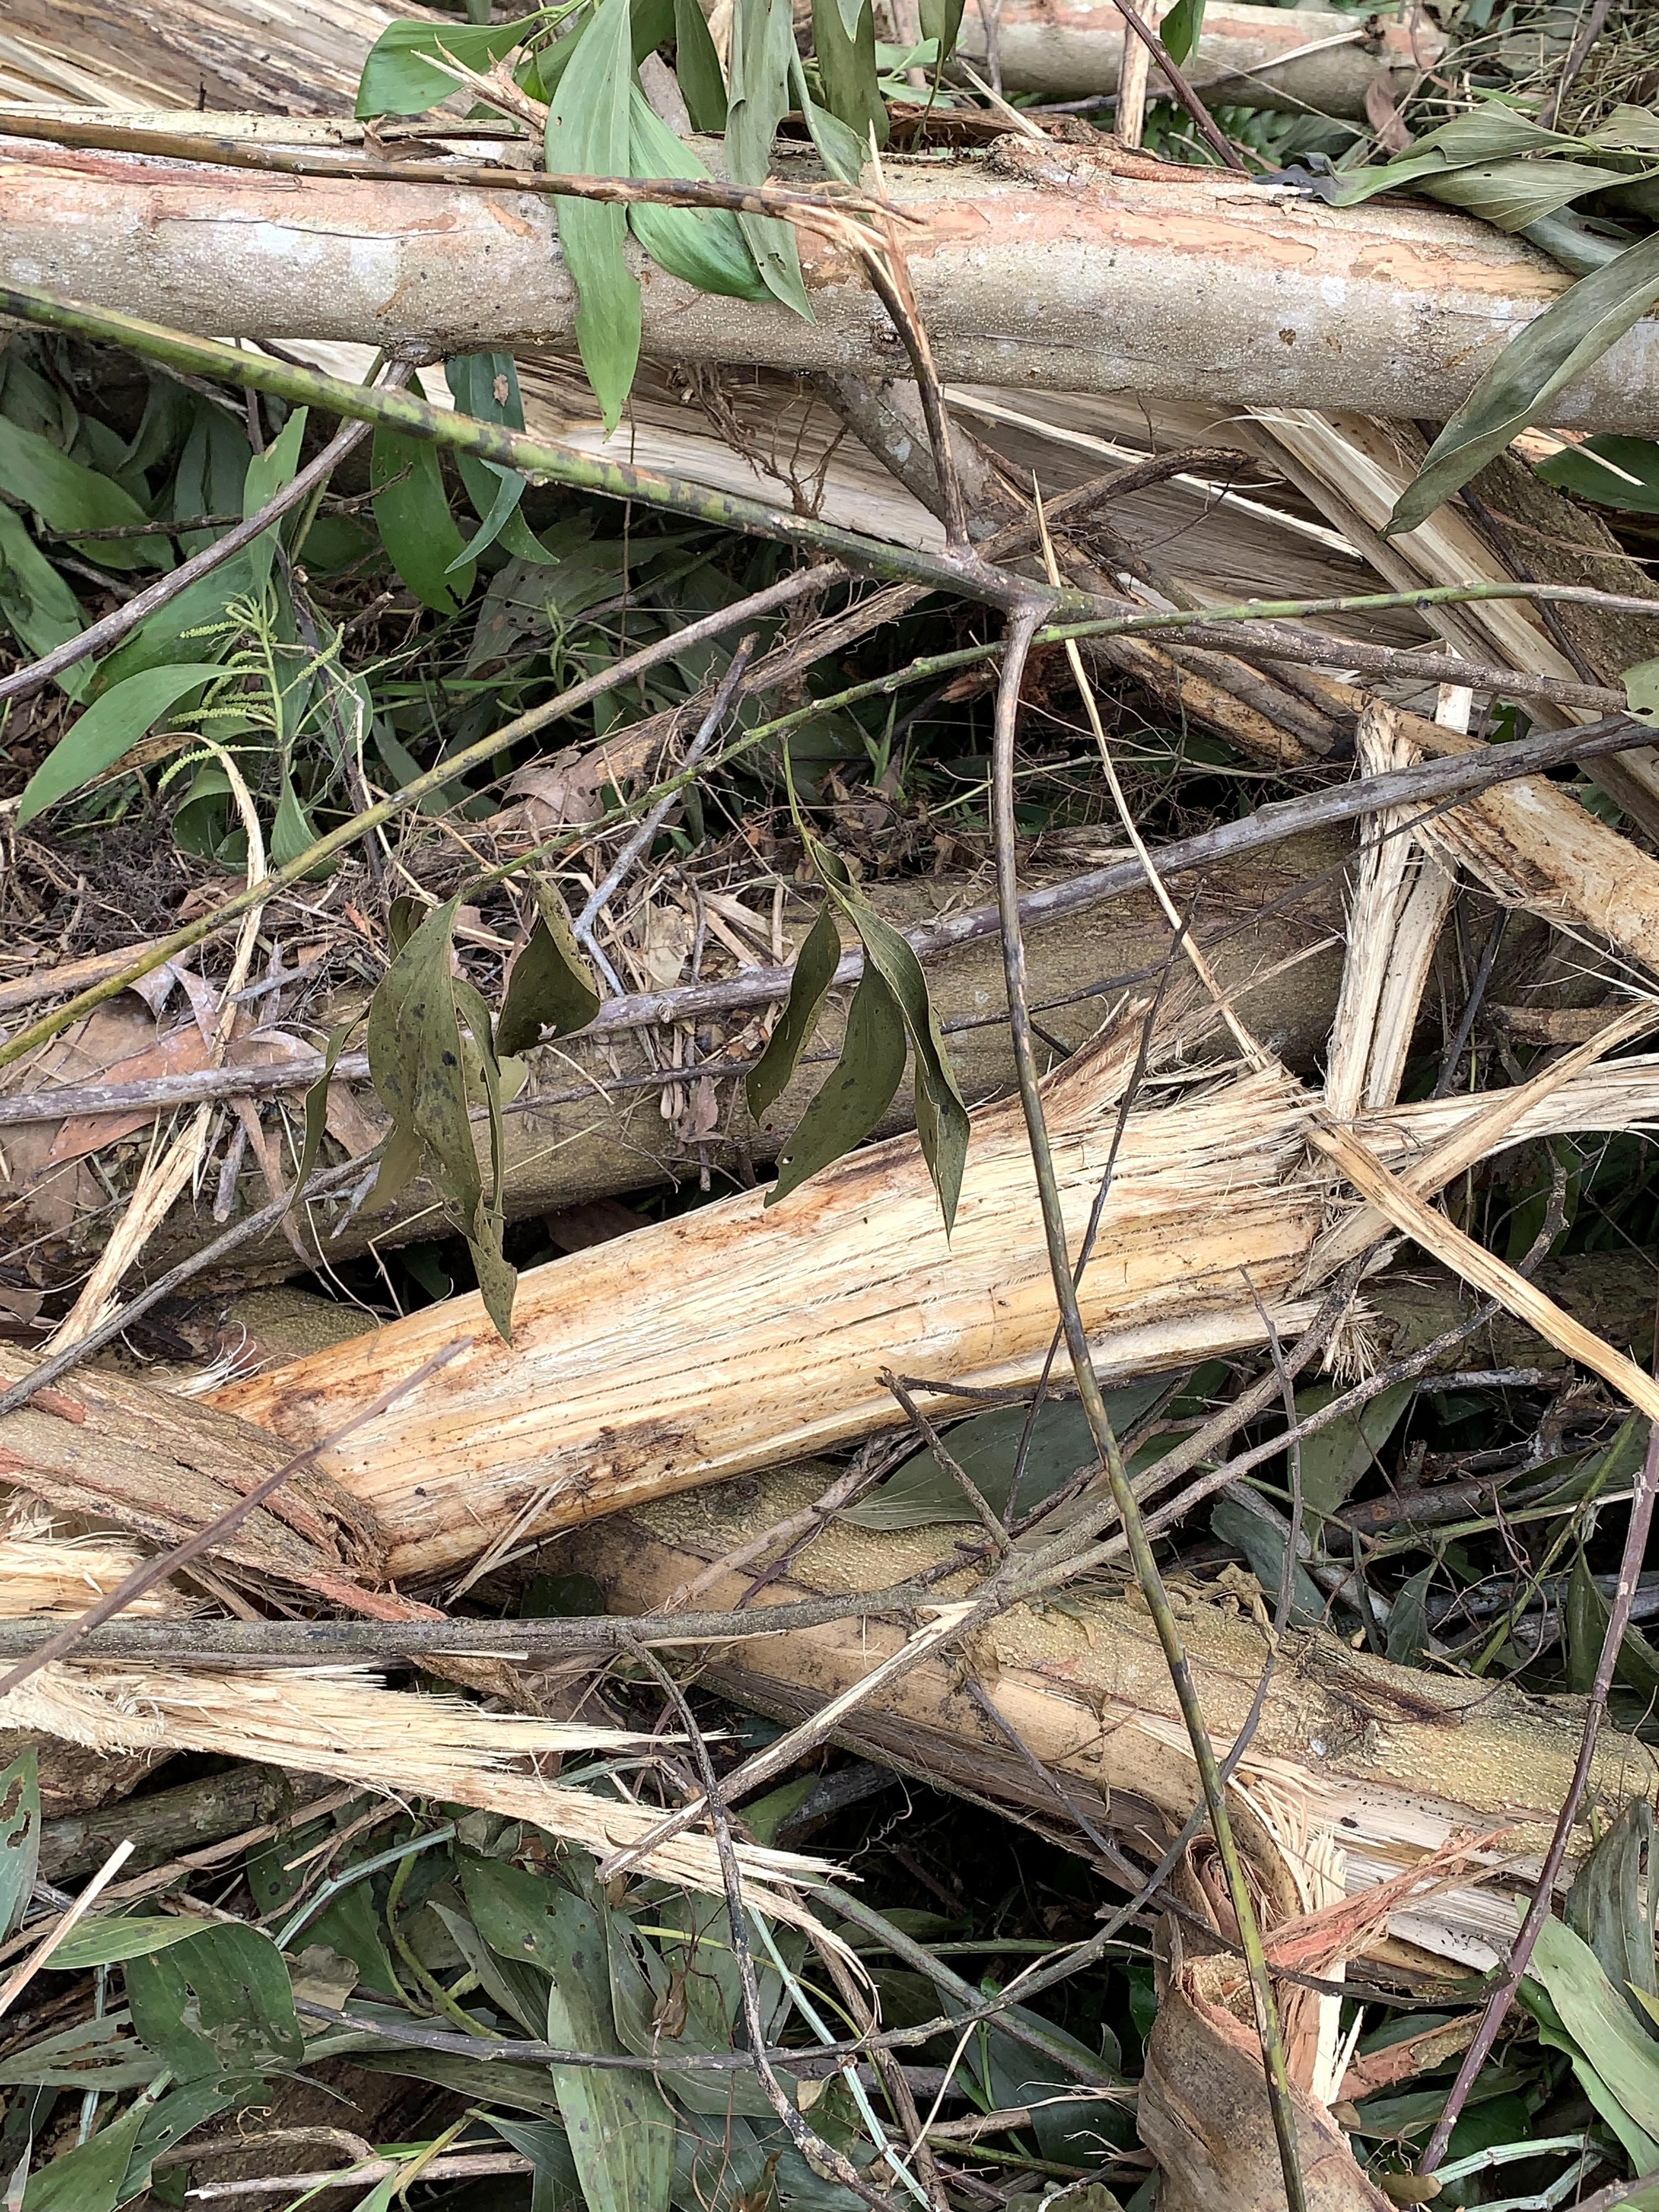Mammals Attack: (0, 995, 1488, 1742)
